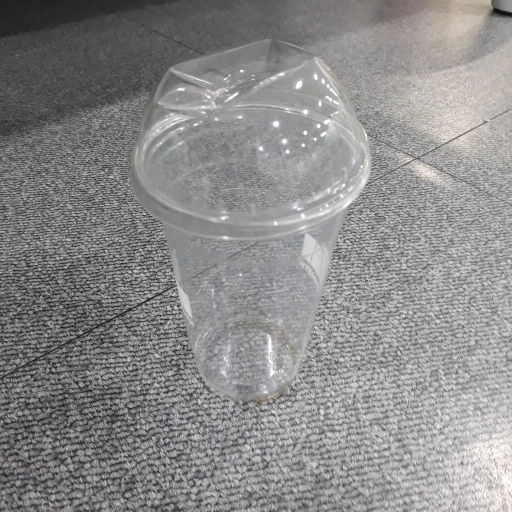Plastic_2: (125, 38, 375, 398)
